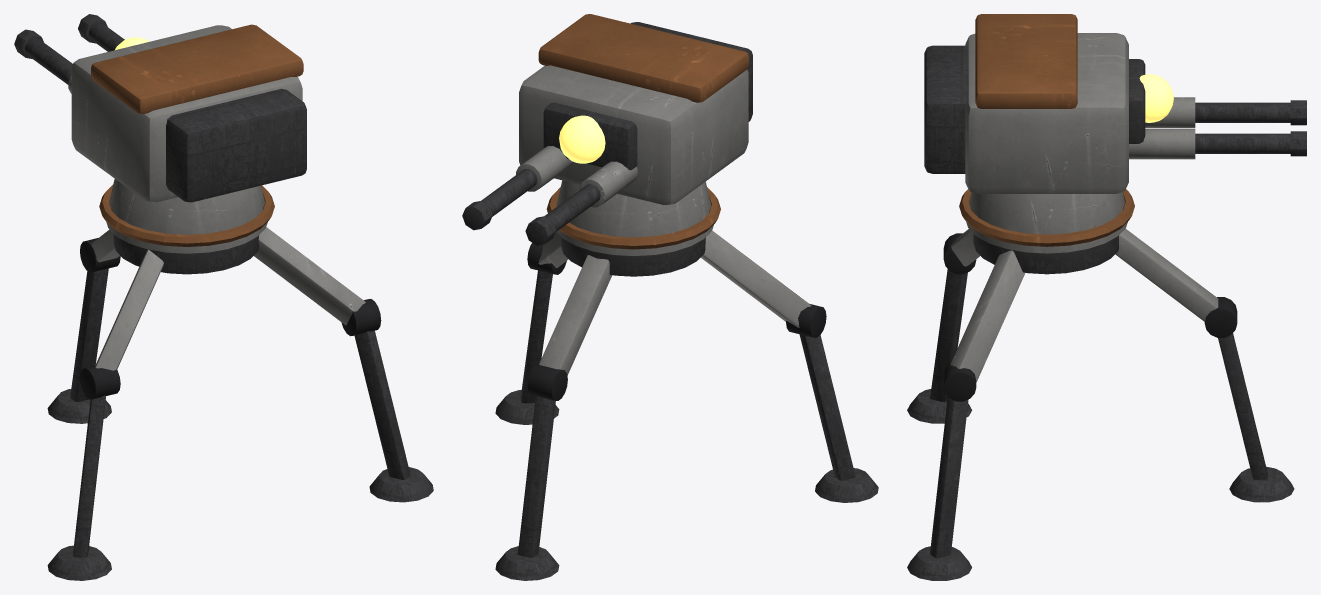
Rendered from arc_sentinel.glb.
3 renders of one model, left to right at view 1: azimuth 30°, elevation 25°; view 2: azimuth 150°, elevation 25°; view 3: azimuth 270°, elevation 25°, orthographic.
Visible parts, largest first — view 1: sentinel_head, sentinel_base; view 2: sentinel_head, sentinel_base, sentinel_eye; view 3: sentinel_head, sentinel_base, sentinel_eye.
Part boxes in pixels (left/top/right/bottom): sentinel_head: left=14, top=14, right=306, bottom=202; sentinel_base: left=47, top=179, right=433, bottom=580; sentinel_head: left=462, top=14, right=752, bottom=245; sentinel_base: left=495, top=180, right=878, bottom=580; sentinel_eye: left=559, top=115, right=605, bottom=163; sentinel_head: left=924, top=14, right=1306, bottom=193; sentinel_base: left=907, top=189, right=1294, bottom=580; sentinel_eye: left=1139, top=74, right=1173, bottom=122.
Bounding box in the file's own units: 2.13 × 2.36 × 1.95.
5 materials, 4 textured.
